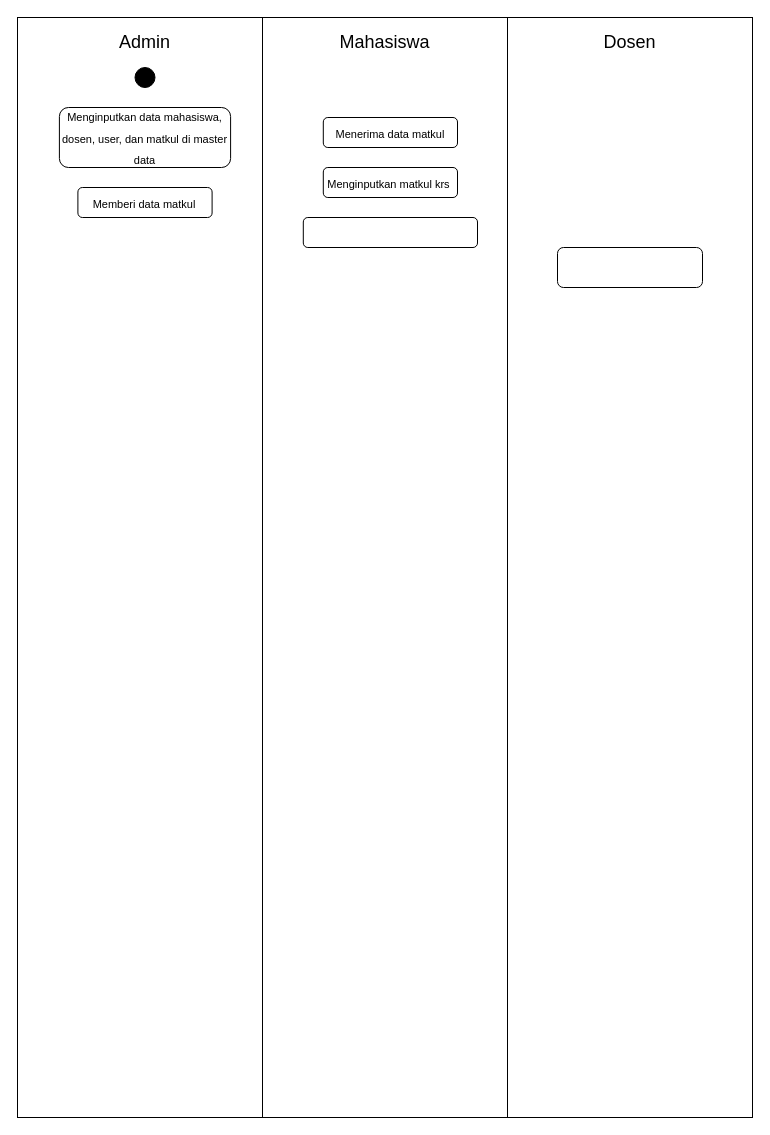
The diagram is 770 pixels wide and 1135 high, and some of its shapes have lost their labels. Here are the shapes that lost their labels. From the top down, the centre of each, then its label:
At [390,232]: "Memberii hasil inputan matkul krs".
At [629,267]: "Menerima inputan data matkul krs mahasiswa".
